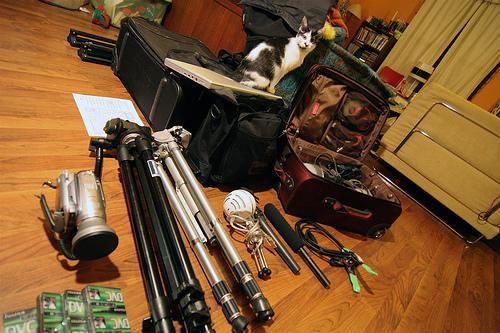tv: (164, 48, 284, 99)
